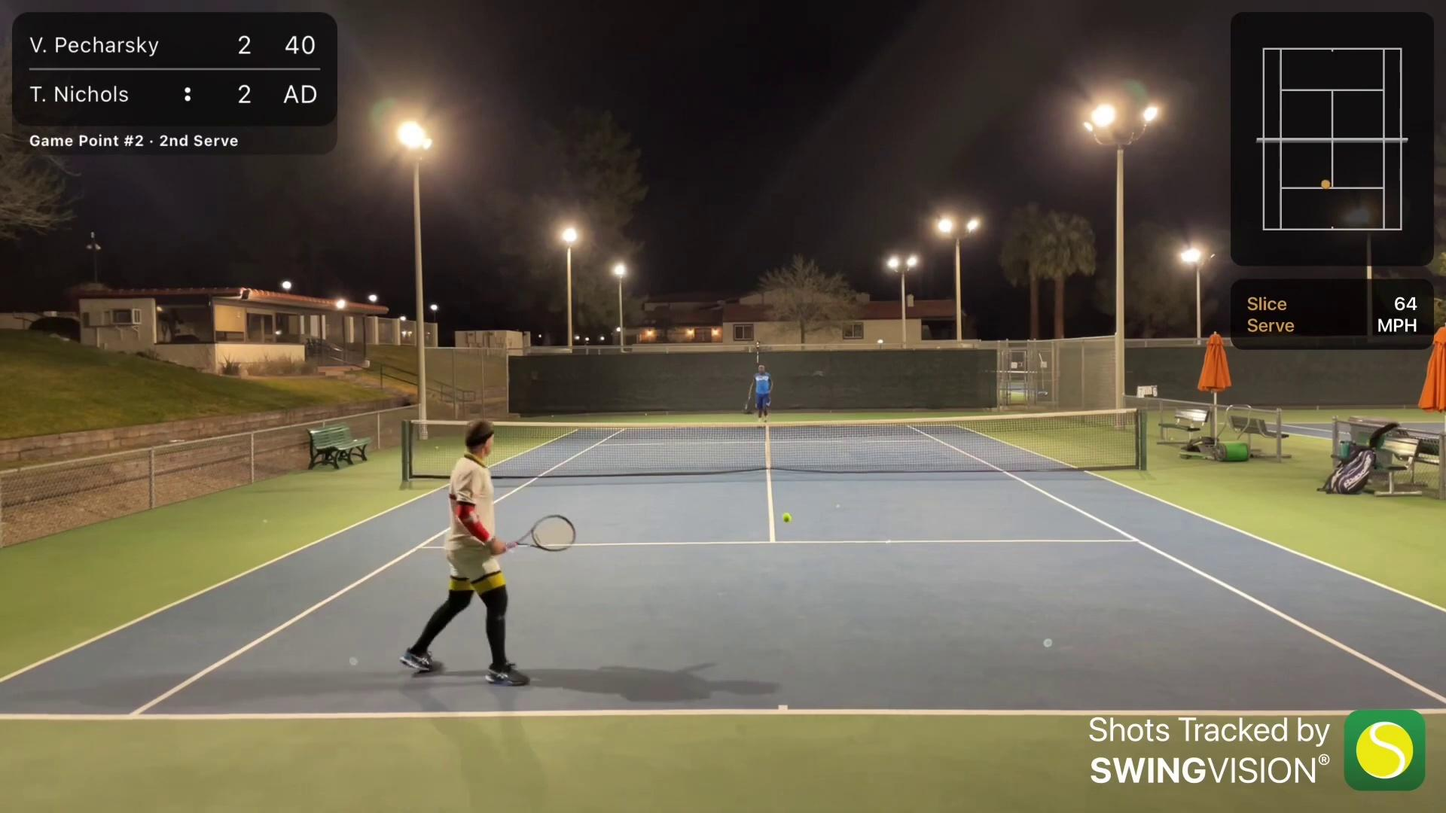ball: (781, 511, 796, 523)
